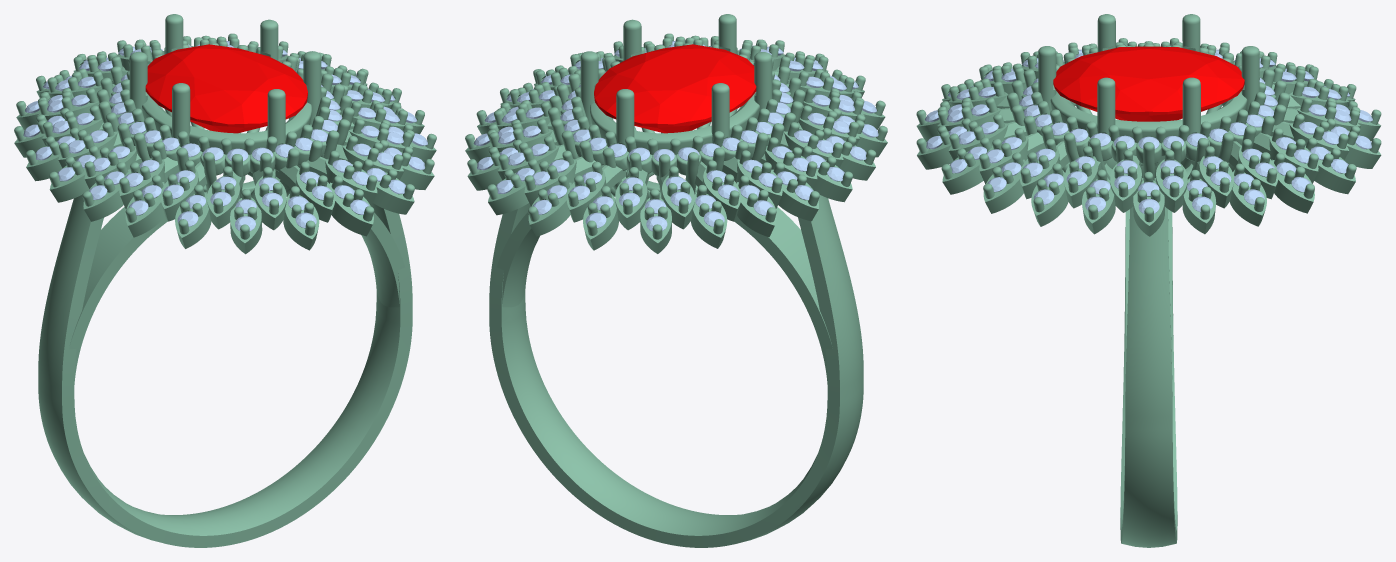
3 renders of one model, left to right at view 1: azimuth 30°, elevation 25°; view 2: azimuth 150°, elevation 25°; view 3: azimuth 270°, elevation 25°, orthographic.
Parts seen in each view (by area): view 1: Anel Indiano.3dm; view 2: Anel Indiano.3dm; view 3: Anel Indiano.3dm.
Part boxes in pixels (x1,y1,x2,y2): Anel Indiano.3dm: (14,14,436,547); Anel Indiano.3dm: (465,14,887,547); Anel Indiano.3dm: (916,14,1381,547).
Size of the model in its own units: 2.02 by 2.6 by 2.28.
